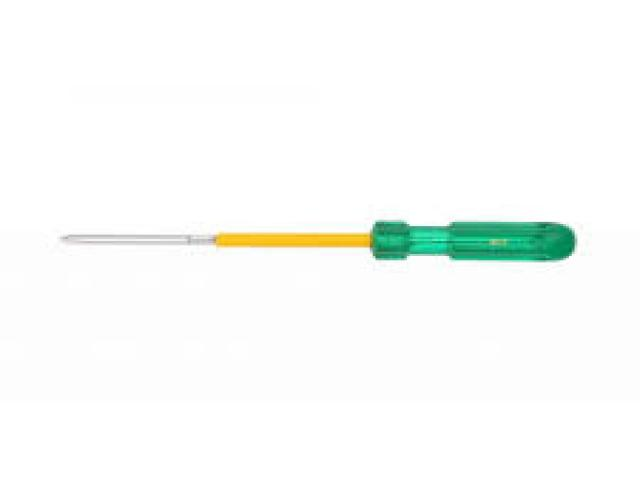Screwdriver: (61, 220, 576, 261)
